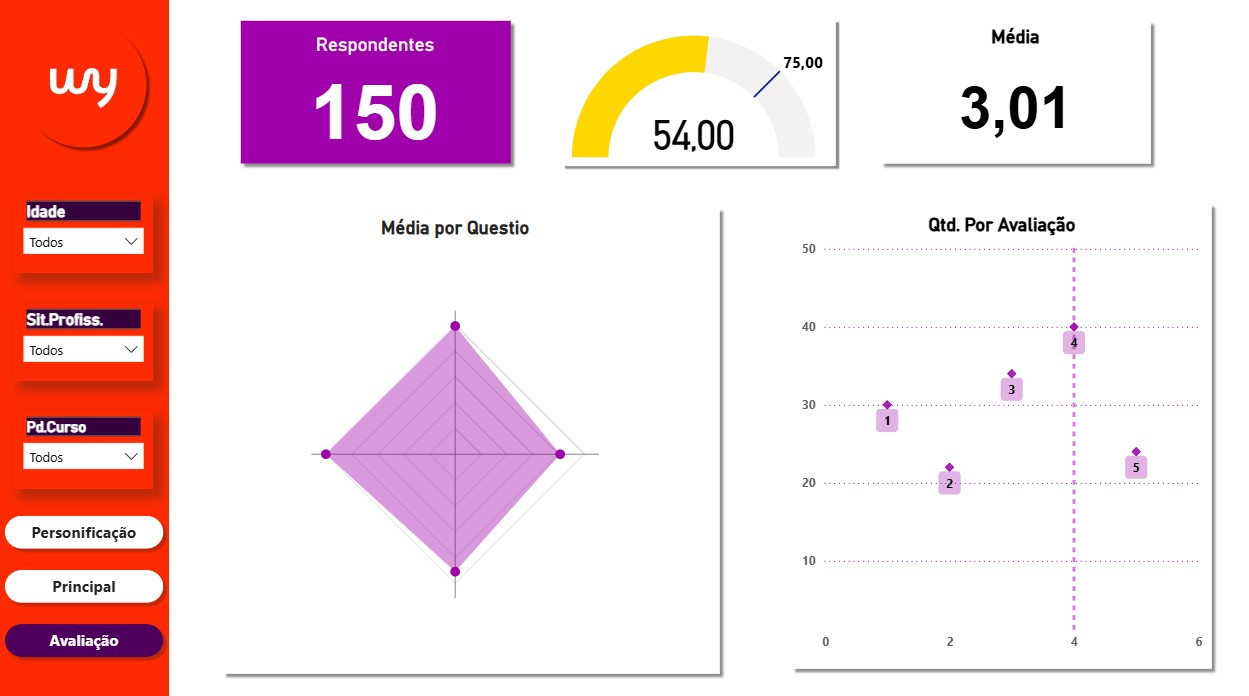

The page's visual inventory and layout, read from the dashboard file:
{"tool":"powerbi","page":{"name":"Avaliação","canvas":[1280,720],"ordinal":2},"visuals":[{"type":"shape","box":[813.1,203.3,448.3,495],"z":0},{"type":"shape","box":[224,208,528,496],"z":1000},{"type":"shape","box":[243.3,14.8,293.3,161.7],"z":2000},{"type":"shape","box":[577,14.8,293.3,161.7],"z":3000},{"type":"gauge","fields":{"Y":["Sheet1.NPS_Visual"]},"box":[587.9,27.5,276.4,143.6],"z":4000},{"type":"scatterChart","title":"Qtd. Por Avaliação","fields":{"X":["FrequenciaNotas.Avaliação do formulário (1-5)"],"Y":["Sum(FrequenciaNotas.Qtd)"]},"box":[825.7,221.4,424.3,461.4],"z":5000},{"type":"card","title":"Respondentes","fields":{"Values":["CountNonNull(Sheet1.Utilidade da pesquisa (1-5))"]},"box":[265.3,34.8,248.3,123.3],"z":6000},{"type":"shape","box":[905.4,14.8,293.3,161.7],"z":7000},{"type":"card","title":"Média","fields":{"Values":["Sheet1.MédiaUtilidade"]},"box":[923.2,27.3,257.5,136.2],"z":8000},{"type":"RadarChart1446119667547","title":"Média por Questio","fields":{"Category":["Radar.Quesito"],"Y":["Radar.ValorRadar"]},"box":[208,224,528,464],"z":9000},{"type":"shape","box":[0,0,176,720],"z":10000},{"type":"group","id":"g1","title":"Grupo 1","box":[16,16,144,144],"z":11000},{"type":"shape","box":[16,16,144,144],"z":11500,"group":"g1"},{"type":"image","box":[36.6,36.6,102.9,102.9],"z":12000,"group":"g1"},{"type":"bookmarkNavigator","box":[0,528,176,160],"z":12000},{"type":"slicer","fields":{"Values":["Sheet1.Faixa etária"]},"box":[16,202.7,144,80],"z":12001},{"type":"slicer","fields":{"Values":["Sheet1.Situação profissional"]},"box":[16,314.7,144,80],"z":12002},{"type":"slicer","fields":{"Values":["Sheet1.Período do curso"]},"box":[16,426.7,144,80],"z":12003}]}

Visuals, with their boxes in screenshot pixels (x1, y1, x2, y2), scaled from the page's 1280x720 canvas onto the 1249x696 screenshot:
shape: [793, 197, 1231, 675]
shape: [219, 201, 734, 681]
shape: [237, 14, 524, 171]
shape: [563, 14, 849, 171]
gauge - Sheet1.NPS_Visual: [574, 27, 843, 165]
"Qtd. Por Avaliação" scatterChart: [806, 214, 1220, 660]
"Respondentes" card: [259, 34, 501, 153]
shape: [883, 14, 1170, 171]
"Média" card: [901, 26, 1152, 158]
"Média por Questio" RadarChart1446119667547: [203, 217, 718, 665]
shape: [0, 0, 172, 695]
"Grupo 1" group: [16, 15, 156, 155]
shape: [16, 15, 156, 155]
image: [36, 35, 136, 135]
bookmarkNavigator: [0, 510, 172, 665]
slicer - Sheet1.Faixa etária: [16, 196, 156, 273]
slicer - Sheet1.Situação profissional: [16, 304, 156, 382]
slicer - Sheet1.Período do curso: [16, 412, 156, 490]
